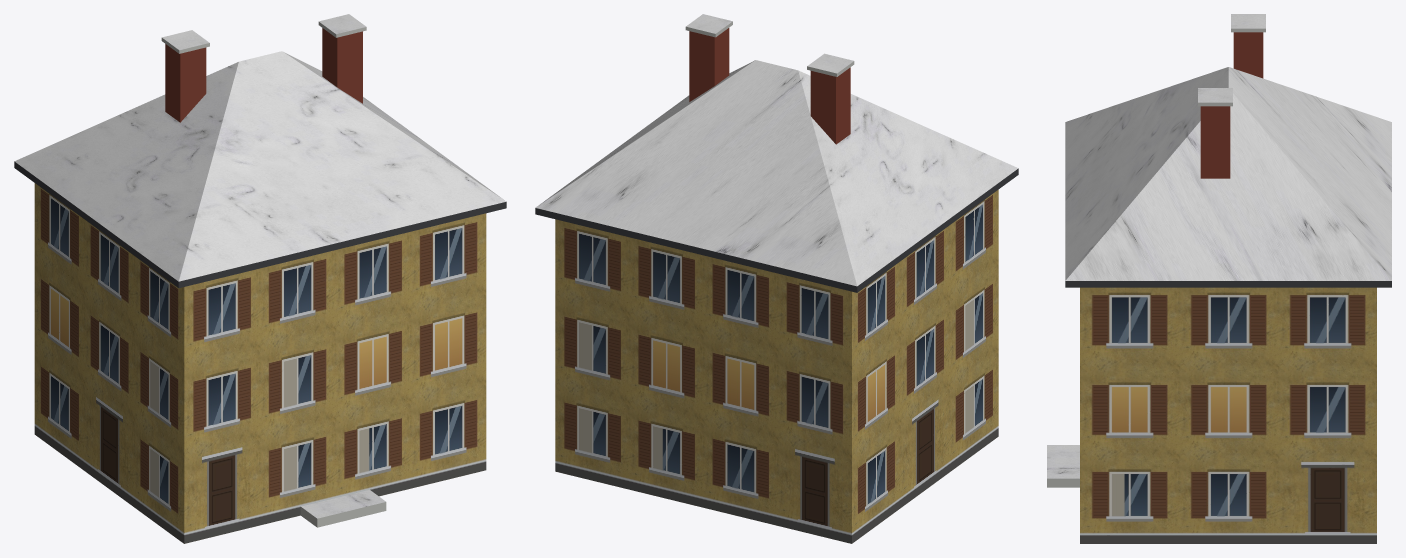
The model's file is c_house3.glb.
The picture shows the model from 3 angles, left to right: view 1: azimuth 30°, elevation 25°; view 2: azimuth 150°, elevation 25°; view 3: azimuth 270°, elevation 25°; orthographic projection.
Visible parts, largest first — view 1: House; view 2: House; view 3: House.
Boxes of the visible parts, box(x1,y1,x2,y2) form: House: box(14, 14, 506, 543); House: box(535, 14, 1018, 543); House: box(1047, 14, 1391, 543).
Bounding box in the file's own units: 11.4 × 13.98 × 10.45.
Materials: 3 (3 with a texture image).
